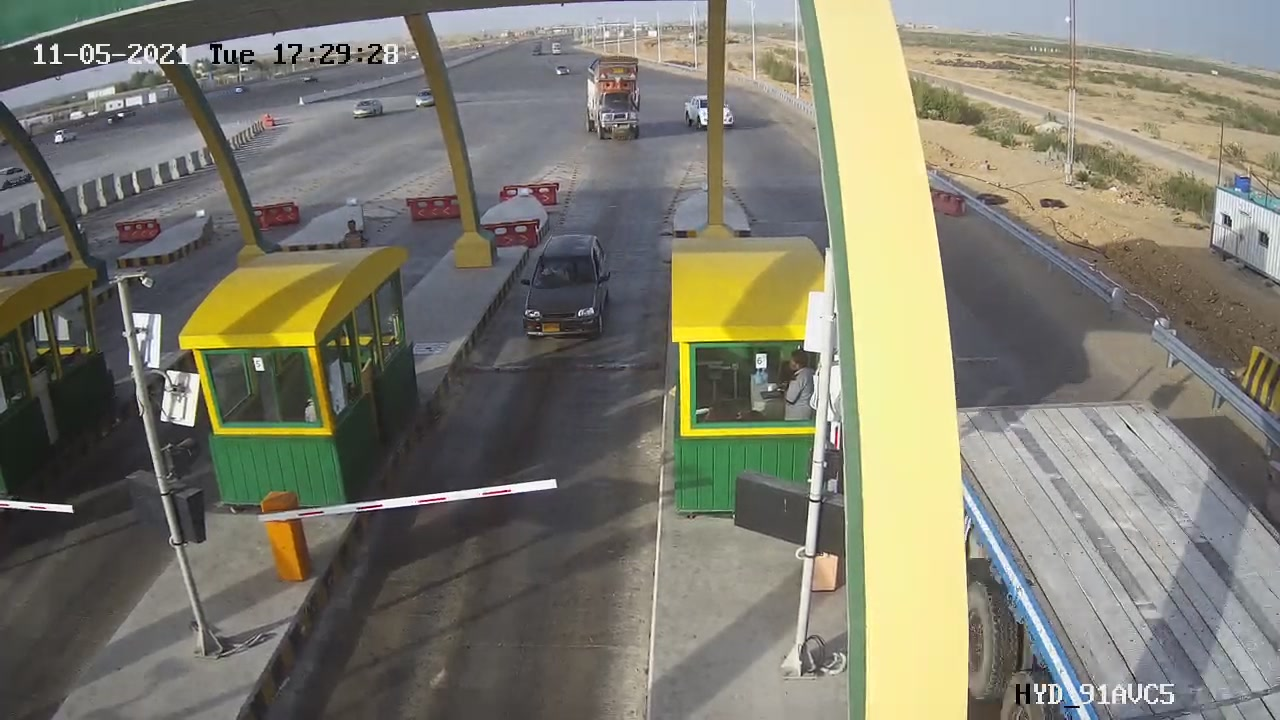F1: (507, 220, 633, 359)
